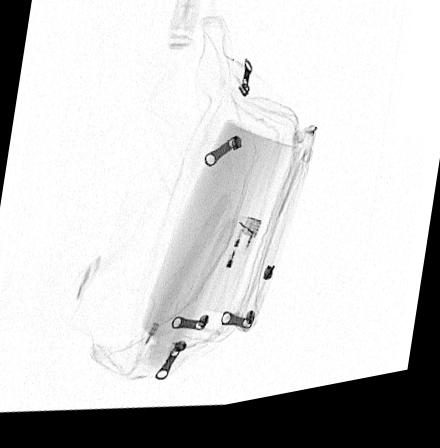Lighter: (204, 224, 261, 322)
